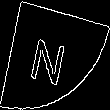N_N: (33, 25, 77, 85)
